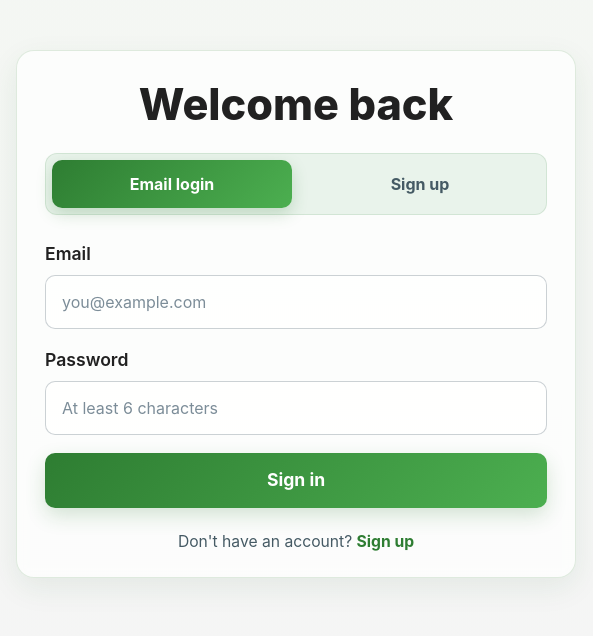
Test case: Login page › shows backend error message on failure
In the field labelled "Email": (296, 302) [45,275,547,329], type "j@e.com"
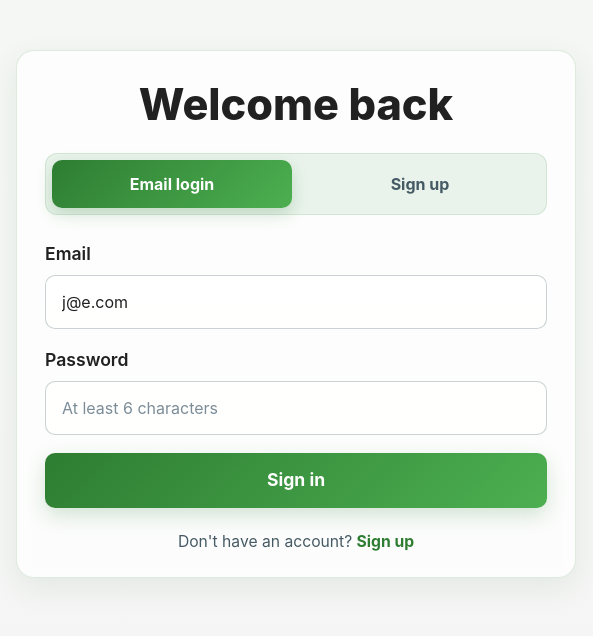
In the password field labelled "Password": (296, 408) [45,381,547,435], type "wrong"
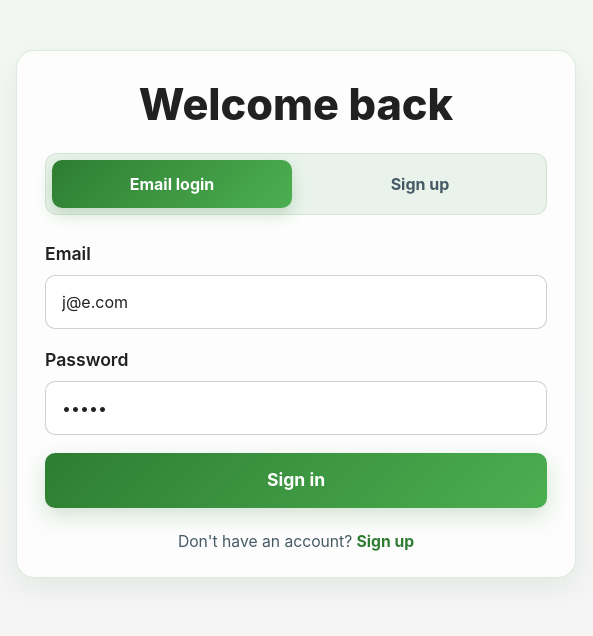
Click the button "Sign in": click(296, 480) [45,453,547,508]
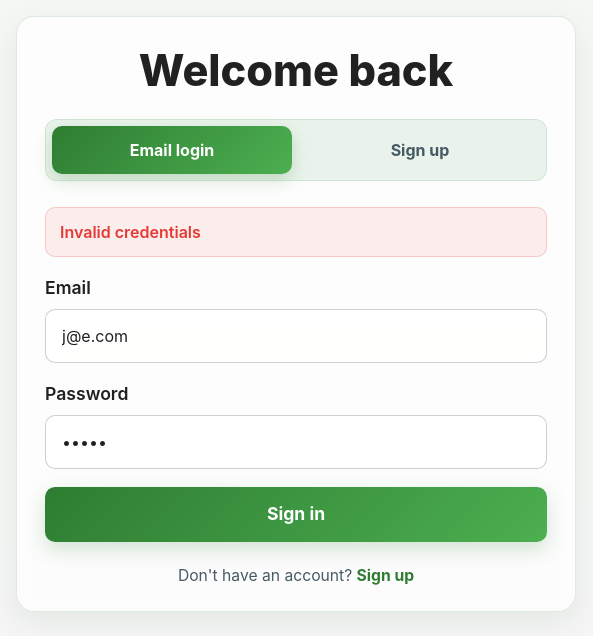
Check: the text "Invalid credentials" is shown, box [45,207,547,257]
